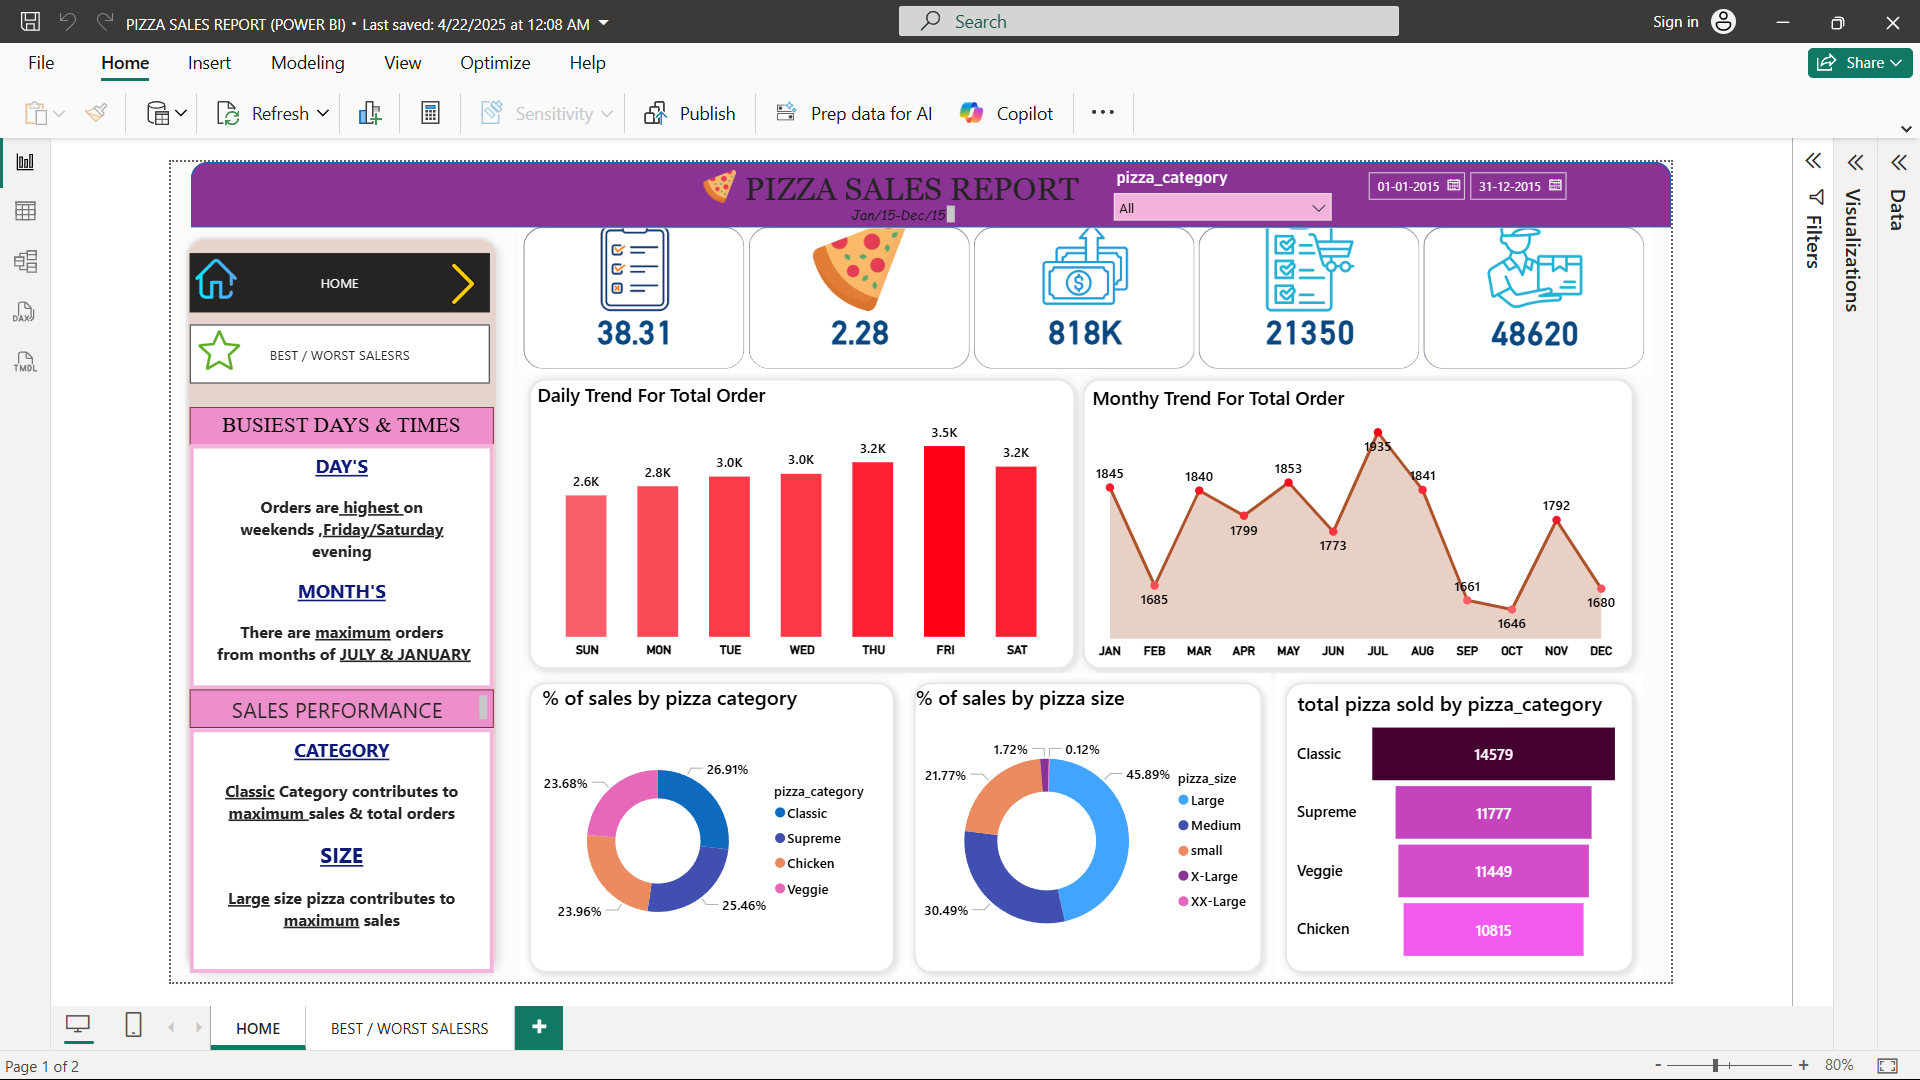

The dashboard page shown, as its layout file describes it:
{"tool":"powerbi","page":{"name":"HOME","canvas":[1500,820],"ordinal":0},"visuals":[{"type":"cardVisual","fields":{"Data":["pizza_sales.avg_order_value","pizza_sales.avg_pizza_per_order","pizza_sales.total revenue","pizza_sales.total_order","pizza_sales.total_pizza_sold"]},"box":[347.3,59.5,1133.7,152.8],"z":0},{"type":"shape","box":[19.5,0,1480.4,65.5],"z":1000},{"type":"textbox","box":[569,3.4,363.8,56.9],"z":2000},{"type":"textbox","box":[675.4,39,114.2,26.5],"z":3000},{"type":"image","box":[267.4,2.8,562.6,44.6],"z":4000},{"type":"shape","box":[349,511.4,384.3,308.7],"z":5000},{"type":"shape","box":[902.1,207.4,569.3,308.7],"z":6000},{"type":"donutChart","title":"% of sales by pizza category","fields":{"Category":["pizza_sales.pizza_category"],"Y":["pizza_sales.total revenue"]},"box":[366.6,521,353.8,289.5],"z":7000},{"type":"shape","box":[349,207.4,564.4,308.7],"z":8000},{"type":"areaChart","title":"Monthy Trend For Total Order","fields":{"Category":["pizza_sales.order month"],"Y":["pizza_sales.total order"]},"box":[916.6,221.9,537.1,281.4],"z":9000},{"type":"columnChart","title":"Daily Trend For Total Order","fields":{"Category":["pizza_sales.order day"],"Y":["pizza_sales.total order"]},"box":[361.8,220.3,540.3,283],"z":10000},{"type":"shape","box":[733.3,511.4,366.6,308.7],"z":11000},{"type":"shape","box":[1104.7,511.4,366.6,308.7],"z":12000},{"type":"shape","box":[6.4,65.9,329.7,754.2],"z":13000},{"type":"donutChart","title":"% of sales by pizza size","fields":{"Y":["pizza_sales.total revenue"],"Category":["pizza_sales.pizza_size"]},"box":[739.7,521,353.8,289.5],"z":14000},{"type":"funnel","fields":{"Category":["pizza_sales.pizza_category"],"Y":["pizza_sales.total pizza sold"]},"box":[1120.8,527.4,332.9,276.6],"z":15000},{"type":"textbox","box":[19.3,244.4,303.9,38.6],"z":16000},{"type":"textbox","box":[19.3,283,304,244.4],"z":17000},{"type":"textbox","box":[19.3,527.4,303.9,38.6],"z":18000},{"type":"textbox","box":[19.3,566,303.9,244.4],"z":19000},{"type":"slicer","fields":{"Values":["pizza_sales.pizza_category"]},"box":[932.7,0,238,65.9],"z":20000},{"type":"slicer","fields":{"Values":["pizza_sales.order_date"]},"box":[1185.2,0,286.9,65.5],"z":21000},{"type":"pageNavigator","box":[19.3,91.7,300.7,59.5],"z":22000},{"type":"pageNavigator","box":[19.3,162.4,300.7,59.5],"z":23000},{"type":"image","box":[265.3,96.5,54.7,51.5],"z":24000},{"type":"image","box":[19.3,91.7,53.1,51.5],"z":25000},{"type":"image","box":[19.3,162.4,59.5,51.5],"z":26000}]}

Visuals, with their boxes on the page's 1500x820 design canvas (x1, y1, x2, y2). These are canvas units, not pixel positions in the 1920x1080 screenshot, which may show the page scaled, cropped or inside an application window:
cardVisual - pizza_sales.avg_order_value x pizza_sales.avg_pizza_per_order: BBox(347, 60, 1481, 212)
shape: BBox(20, 0, 1500, 66)
textbox: BBox(569, 3, 933, 60)
textbox: BBox(675, 39, 790, 66)
image: BBox(267, 3, 830, 47)
shape: BBox(349, 511, 733, 820)
shape: BBox(902, 207, 1471, 516)
"% of sales by pizza category" donutChart: BBox(367, 521, 720, 810)
shape: BBox(349, 207, 913, 516)
"Monthy Trend For Total Order" areaChart: BBox(917, 222, 1454, 503)
"Daily Trend For Total Order" columnChart: BBox(362, 220, 902, 503)
shape: BBox(733, 511, 1100, 820)
shape: BBox(1105, 511, 1471, 820)
shape: BBox(6, 66, 336, 820)
"% of sales by pizza size" donutChart: BBox(740, 521, 1094, 810)
funnel - pizza_sales.pizza_category x pizza_sales.total pizza sold: BBox(1121, 527, 1454, 804)
textbox: BBox(19, 244, 323, 283)
textbox: BBox(19, 283, 323, 527)
textbox: BBox(19, 527, 323, 566)
textbox: BBox(19, 566, 323, 810)
slicer - pizza_sales.pizza_category: BBox(933, 0, 1171, 66)
slicer - pizza_sales.order_date: BBox(1185, 0, 1472, 66)
pageNavigator: BBox(19, 92, 320, 151)
pageNavigator: BBox(19, 162, 320, 222)
image: BBox(265, 96, 320, 148)
image: BBox(19, 92, 72, 143)
image: BBox(19, 162, 79, 214)
